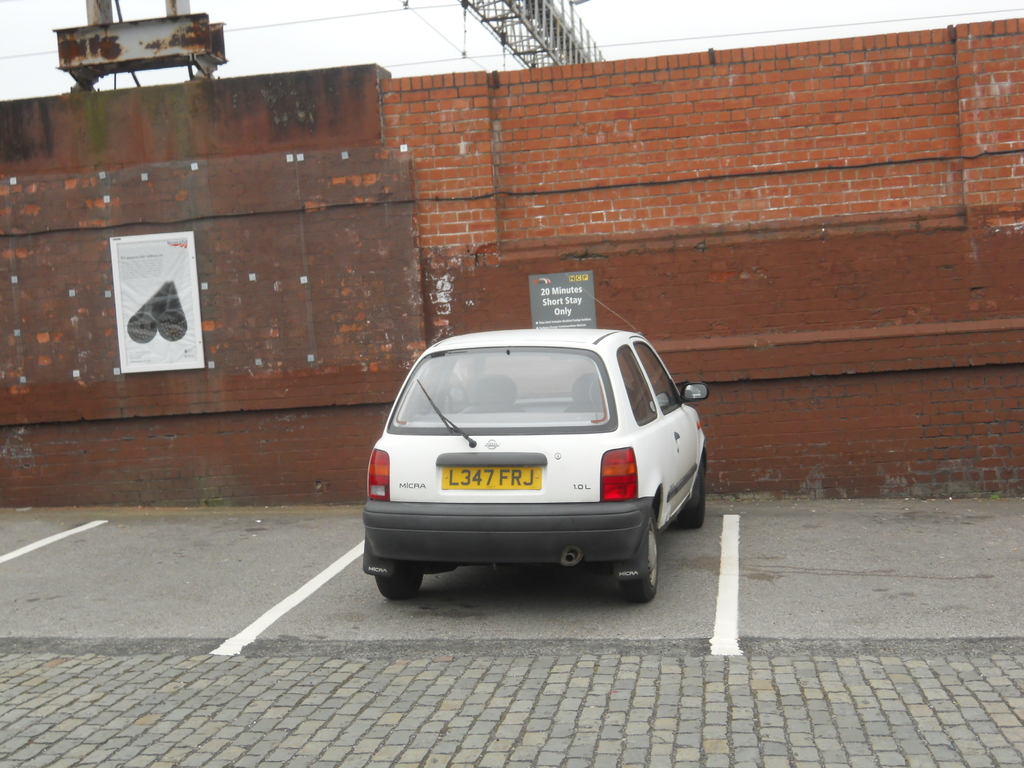license plate: (439, 464, 546, 492)
